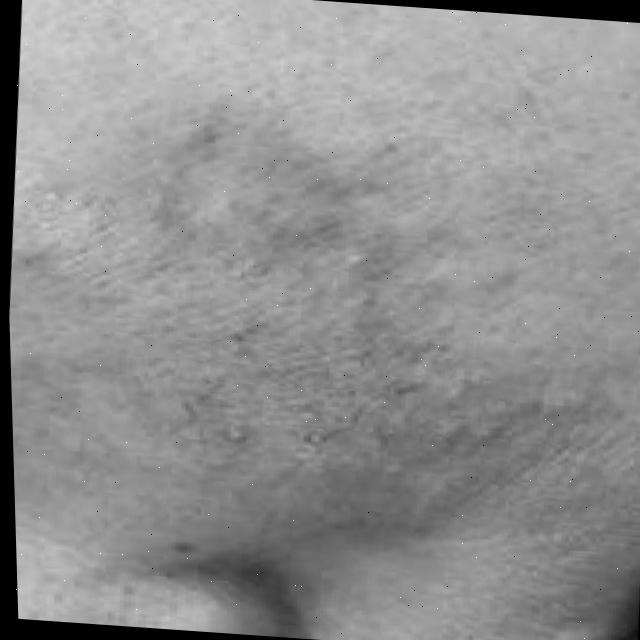Rosacea: (143, 172, 518, 492)
